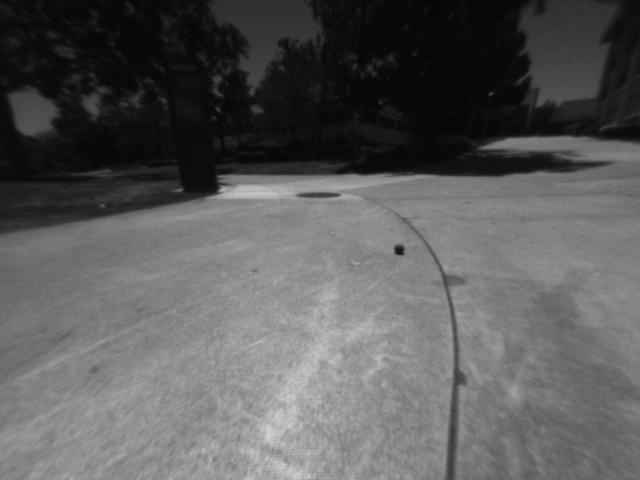dogtoy: (387, 235, 414, 259)
